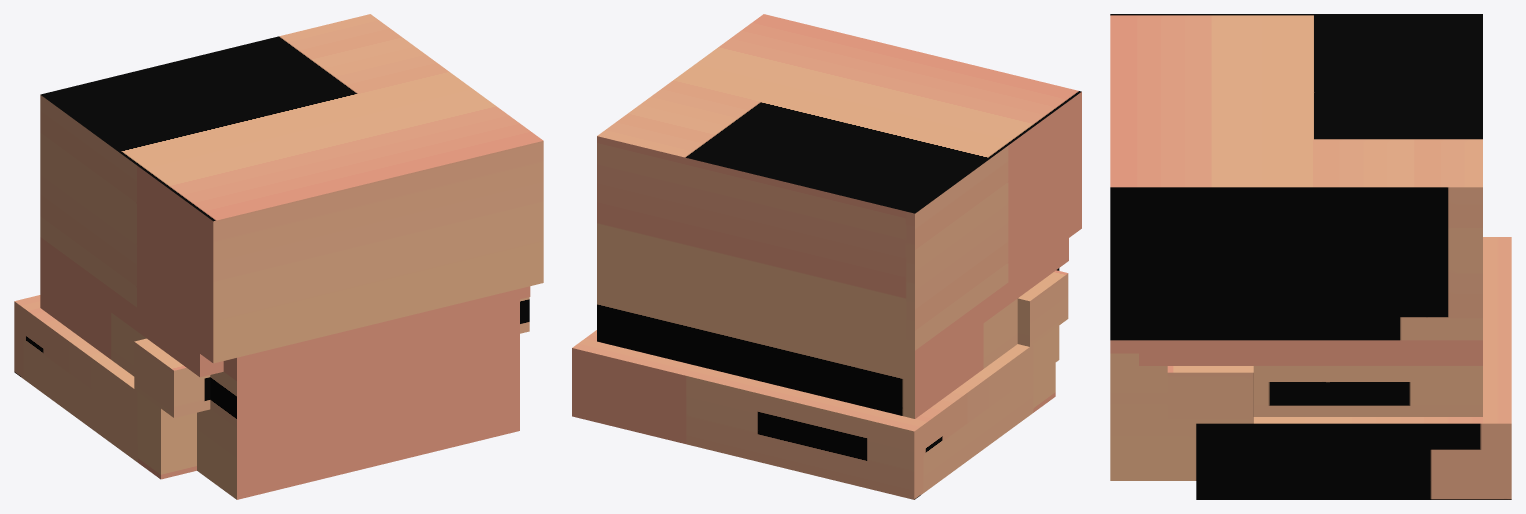
Rendered from Head004.fbx.
The picture shows the model from 3 angles, left to right: view 1: azimuth 30°, elevation 25°; view 2: azimuth 150°, elevation 25°; view 3: azimuth 270°, elevation 25°; orthographic projection. The views are drawn at different scales.
Parts seen in each view (by area): view 1: Head004; view 2: Head004; view 3: Head004.
Part boxes in pixels (x1=…): Head004: x1=14, y1=14, x2=543, y2=499; Head004: x1=572, y1=14, x2=1081, y2=499; Head004: x1=1110, y1=14, x2=1511, y2=499.
Bounding box in the file's own units: 15.07 × 11.52 × 13.69.
